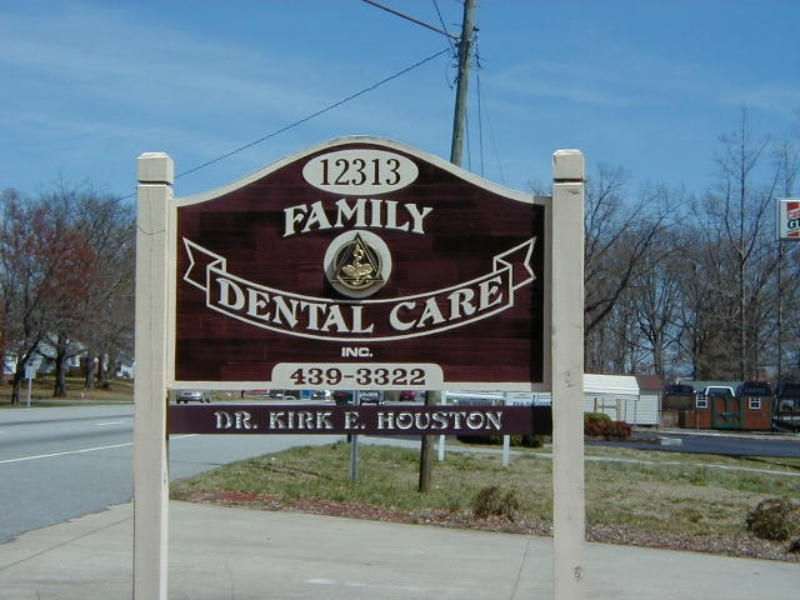text: (225, 273, 240, 338), (241, 273, 256, 338), (257, 273, 272, 338), (273, 273, 288, 338), (289, 273, 304, 338), (305, 273, 320, 338), (321, 273, 336, 338), (337, 273, 352, 338), (353, 273, 368, 338), (401, 272, 416, 334), (417, 272, 432, 334), (433, 272, 448, 334), (449, 272, 464, 334), (465, 272, 480, 334), (481, 272, 496, 334), (389, 272, 400, 334), (214, 273, 224, 338), (289, 197, 304, 237), (305, 197, 320, 237), (321, 197, 336, 237), (337, 197, 352, 237), (353, 197, 368, 237), (369, 197, 384, 237), (385, 197, 400, 237), (401, 197, 416, 237), (417, 197, 432, 237), (385, 158, 401, 187), (369, 273, 376, 338), (321, 158, 336, 187), (337, 158, 352, 187), (353, 158, 368, 187), (369, 158, 384, 187), (497, 272, 504, 334), (789, 208, 800, 237), (369, 367, 384, 387), (385, 367, 400, 387), (401, 367, 416, 387), (225, 411, 240, 431), (241, 411, 256, 431), (273, 409, 288, 429), (289, 409, 304, 429), (305, 409, 320, 429), (385, 411, 400, 431), (401, 411, 416, 431), (417, 411, 432, 431), (433, 411, 448, 431), (449, 411, 464, 431), (465, 411, 480, 431), (481, 411, 496, 431), (353, 411, 367, 431), (289, 368, 304, 386), (305, 368, 320, 386), (321, 368, 336, 386), (282, 197, 288, 237), (356, 367, 368, 387), (321, 409, 333, 429), (213, 411, 224, 431), (417, 367, 426, 387), (343, 411, 352, 431), (353, 347, 368, 358), (377, 411, 384, 431), (341, 347, 352, 358), (497, 411, 503, 431), (337, 368, 342, 386), (433, 197, 435, 237), (269, 409, 272, 429), (369, 347, 374, 358), (257, 411, 259, 431), (343, 374, 352, 378), (319, 158, 320, 187), (353, 374, 356, 378)
